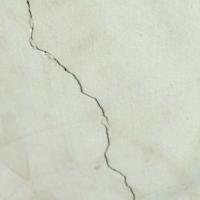crack: (18, 0, 147, 199)
